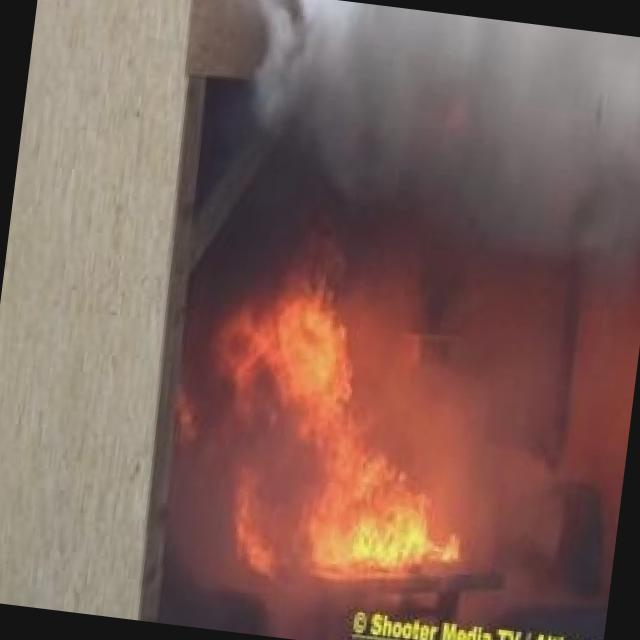fire: (178, 254, 519, 623)
